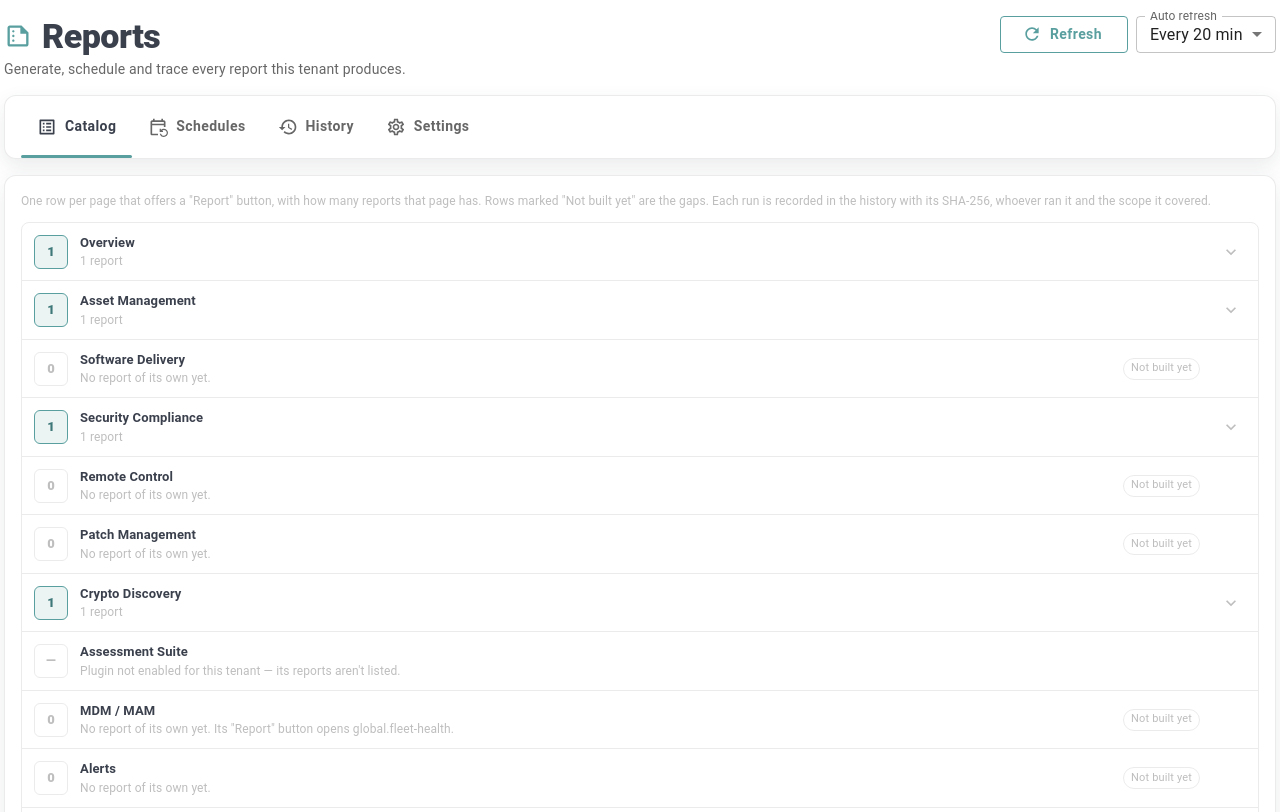
it: Reports — schedules (E3) › a un miembro sin permiso le dice la verdad y le quita el botón
Click the tab "Schedules".
click(197, 127)  # box [132, 96, 262, 158]
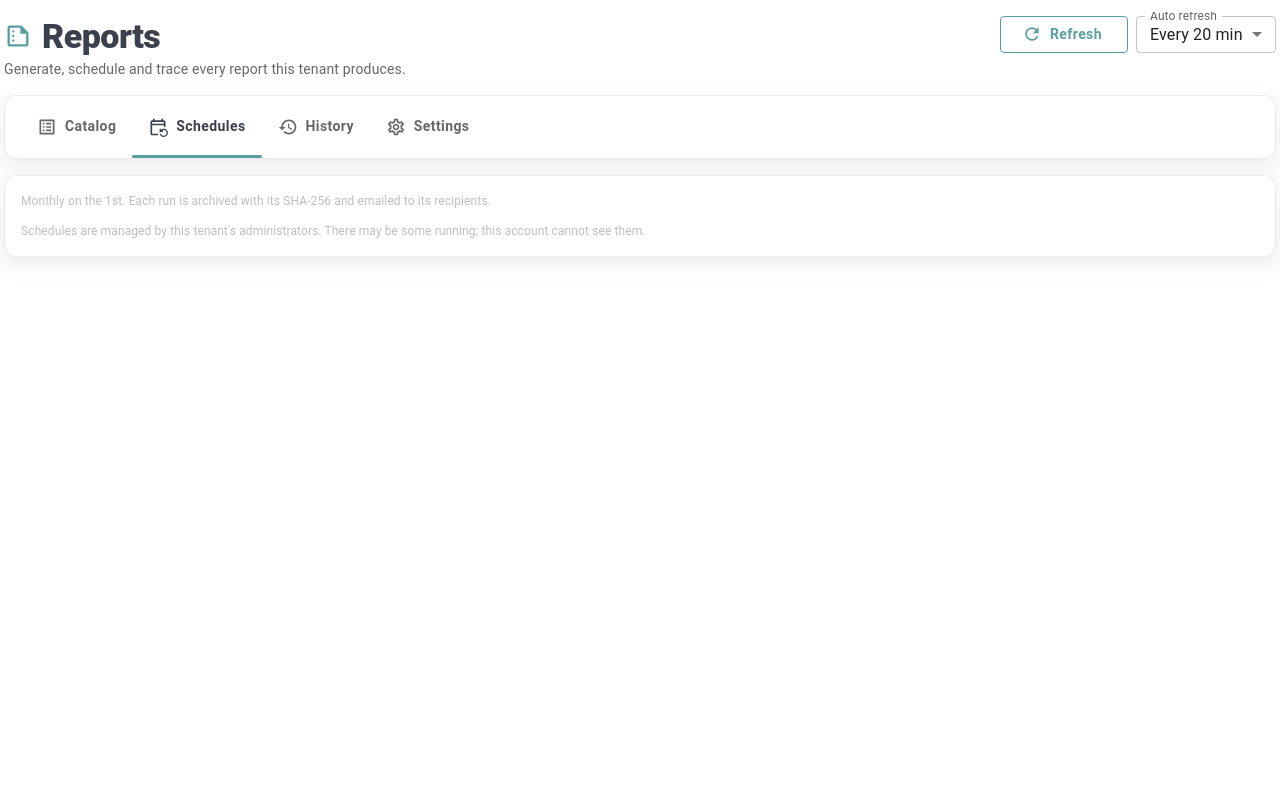
Expected: the text with test id "schedules-empty" shows "administrators", [21, 224, 646, 238]
